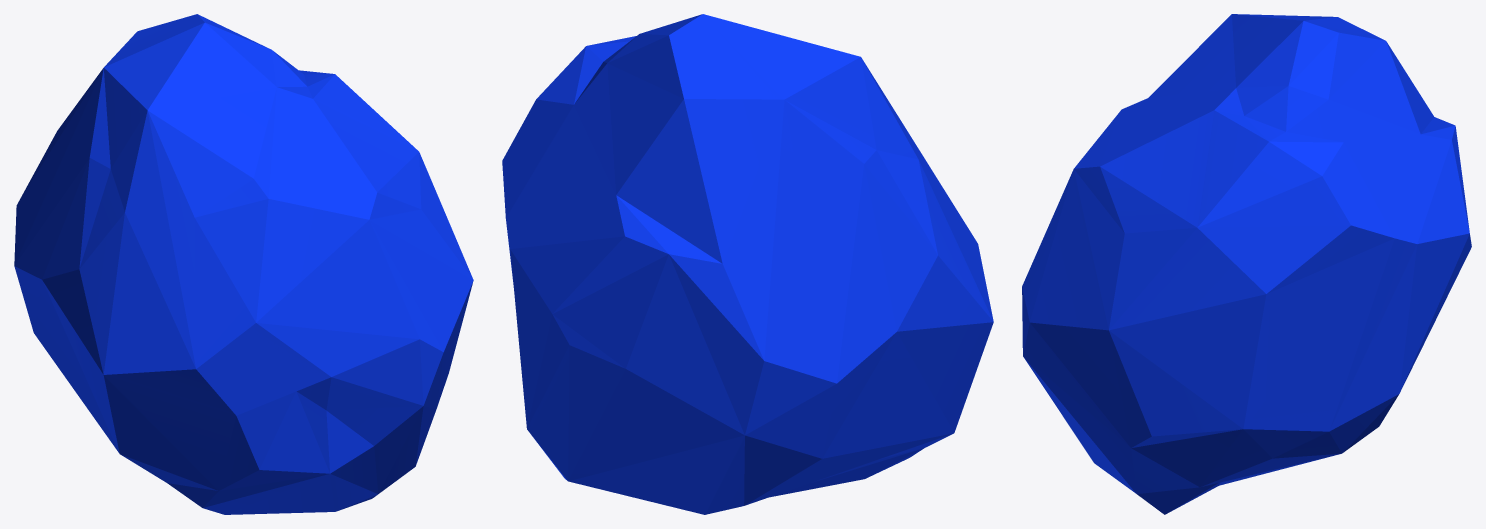
Rendered from SM_emissive_rock_05.fbx.
3 views of the same model, side by side, from view 1: azimuth 30°, elevation 25°; view 2: azimuth 150°, elevation 25°; view 3: azimuth 270°, elevation 25° (orthographic). The views are drawn at different scales.
Visible parts, largest first — view 1: emissive_rock_05; view 2: emissive_rock_05; view 3: emissive_rock_05.
Part boxes in pixels (box(x1,y1,x2,y2)): emissive_rock_05: box(14, 14, 473, 514); emissive_rock_05: box(502, 14, 993, 514); emissive_rock_05: box(1022, 14, 1471, 514).
Size of the model in its own units: 111 by 139 by 126.
